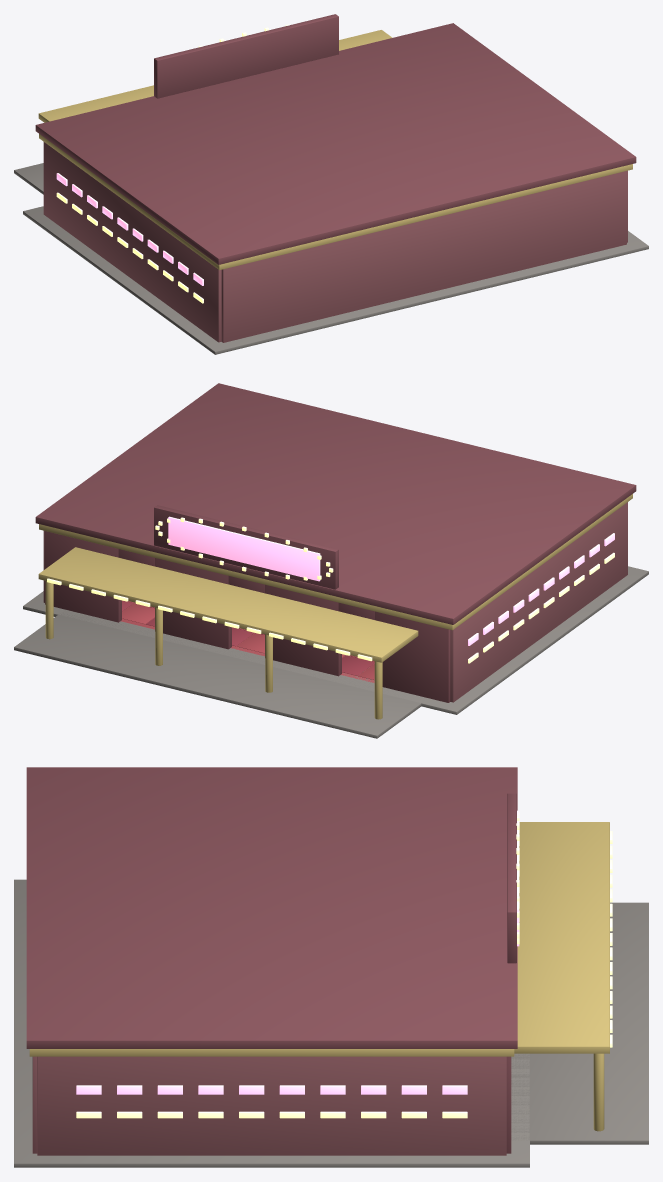
The model's file is th12_casino.glb.
3 renders of one model, top to bottom at view 1: azimuth 30°, elevation 25°; view 2: azimuth 150°, elevation 25°; view 3: azimuth 270°, elevation 25°, orthographic. The views are drawn at different scales.
Visible parts, largest first — view 1: Cube.129, Cube.126, Cube.127, Cube.163, Cube, Cube.189, Cube.131, Cube.130; view 2: Cube.129, Cube.130, Cube.131, Cube.127, Cube, Cube.119, Cube.164, Cube.189, Cube.163, Cube.122, Cube.121, Cube.120 (+2 smaller); view 3: Cube.129, Cube.128, Cube.131, Cube.130, Cube, Cube.189, Cube.163, Cylinder.003, Cube.122, Cube.126.
Part boxes in pixels (<box>): Cube.129: <box>35,23,636,264</box>; Cube.126: <box>221,171,626,342</box>; Cube.127: <box>43,142,221,342</box>; Cube.163: <box>154,14,338,98</box>; Cube: <box>23,206,648,354</box>; Cube.189: <box>39,134,632,270</box>; Cube.131: <box>38,30,392,122</box>; Cube.130: <box>14,163,43,194</box>; Cube.129: <box>35,383,636,624</box>; Cube.130: <box>14,610,421,738</box>; Cube.131: <box>38,547,418,662</box>; Cube.127: <box>450,502,627,702</box>; Cube: <box>23,566,648,714</box>; Cube.119: <box>375,611,450,702</box>; Cube.164: <box>168,516,320,581</box>; Cube.189: <box>39,494,632,630</box>; Cube.163: <box>154,505,338,589</box>; Cube.122: <box>45,531,121,622</box>; Cube.121: <box>155,558,231,649</box>; Cube.120: <box>265,584,341,676</box>; Cube.129: <box>26,767,517,1048</box>; Cube.128: <box>37,1056,506,1155</box>; Cube.131: <box>514,822,609,1053</box>; Cube.130: <box>511,902,648,1144</box>; Cube: <box>14,879,529,1167</box>; Cube.189: <box>29,1049,514,1056</box>; Cube.163: <box>507,793,516,963</box>; Cylinder.003: <box>593,1053,604,1131</box>; Cube.122: <box>506,1056,511,1153</box>; Cube.126: <box>32,1056,37,1153</box>.
Bounding box in the file's own units: 43 × 12.47 × 40.6.
